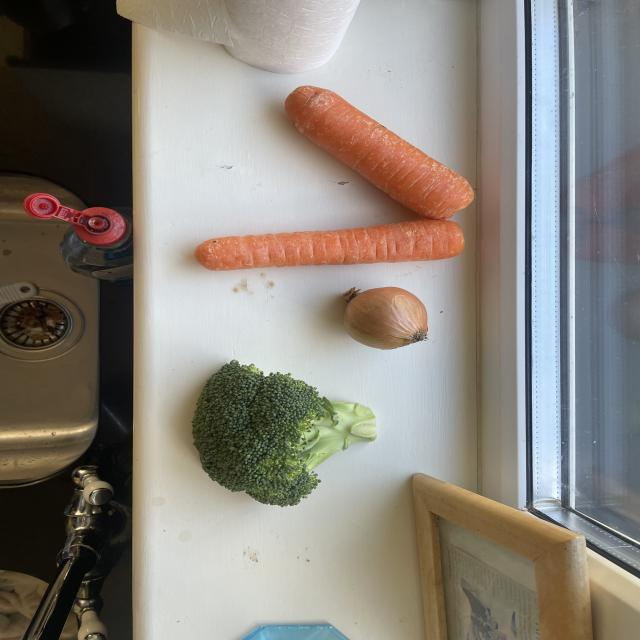Broccoli: (189, 356, 380, 508)
Carrot: (284, 82, 476, 222), (194, 216, 470, 272)
Onion: (338, 283, 431, 350)
